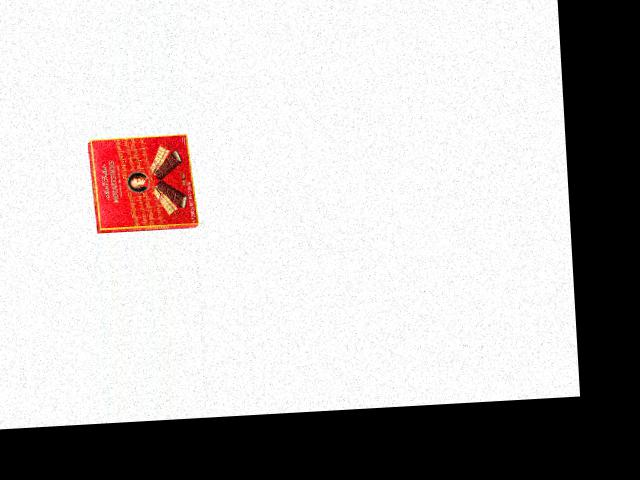chocolate: (89, 131, 201, 234)
